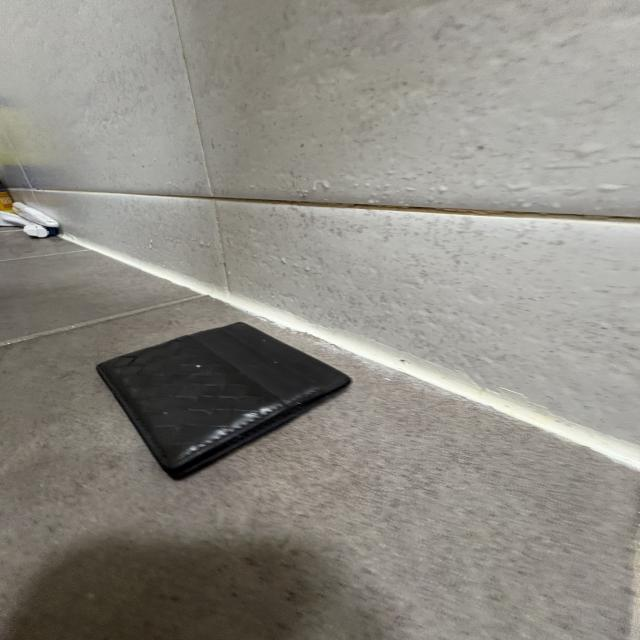wallet: (95, 321, 355, 481)
